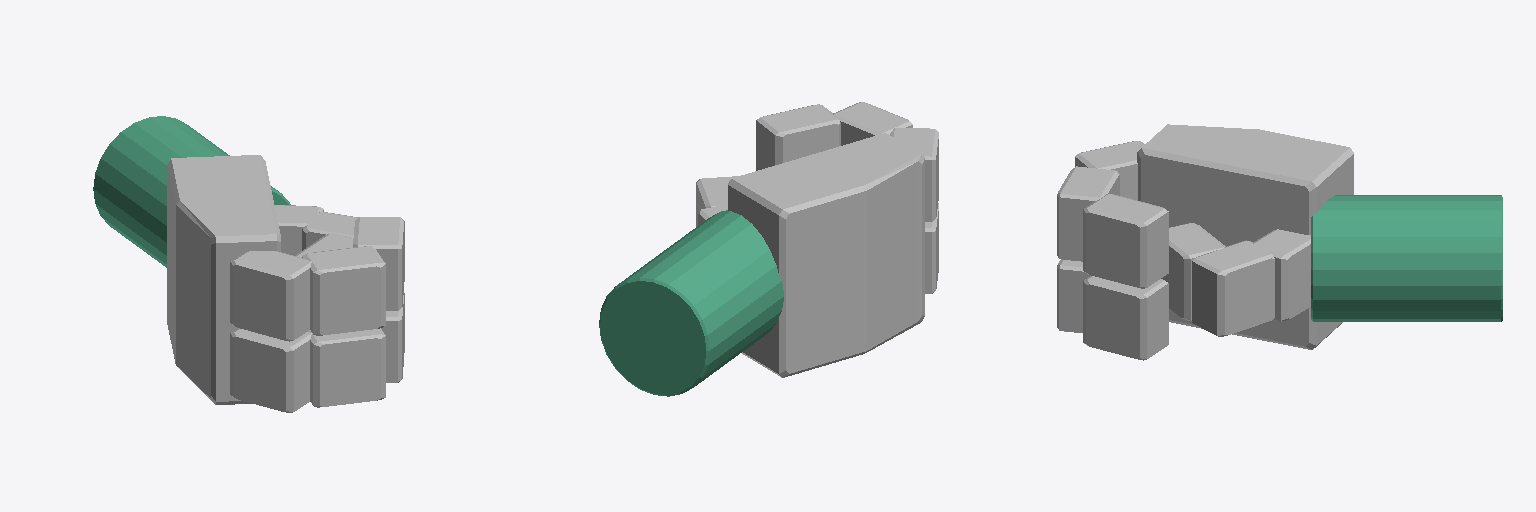
Rendered from l-hand.obj.
The picture shows the model from 3 angles: view 1: azimuth 30°, elevation 25°; view 2: azimuth 150°, elevation 25°; view 3: azimuth 270°, elevation 25°; orthographic projection.
Visible parts, largest first — view 1: l-hand.obj; view 2: l-hand.obj; view 3: l-hand.obj.
Part boxes in pixels (bbox=[...]): l-hand.obj: bbox=[93, 116, 404, 412]; l-hand.obj: bbox=[599, 102, 938, 396]; l-hand.obj: bbox=[1057, 124, 1502, 360].
Size of the model in its own units: 0.0988 by 0.08 by 0.1918.